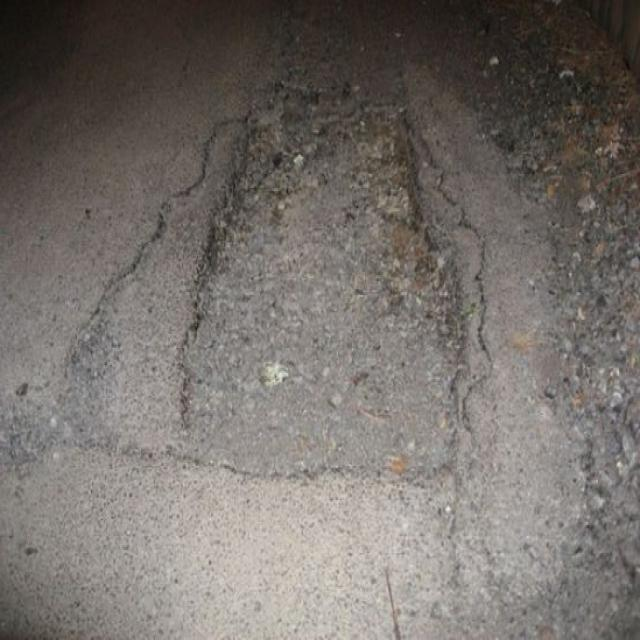Pothole: (62, 71, 488, 494), (177, 70, 473, 490)
